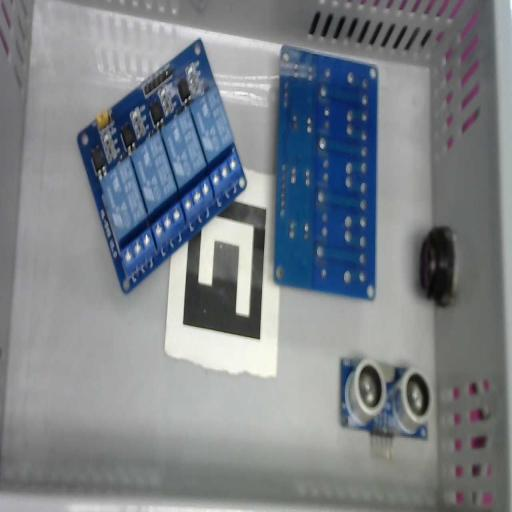QR: (164, 167, 280, 380)
relay_module: (77, 38, 247, 296), (274, 44, 378, 302)
ultrasonic_hc-sr04: (338, 358, 433, 460)
